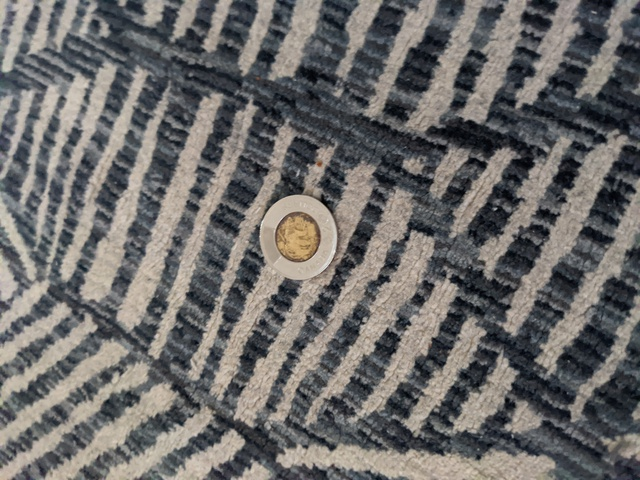twonie: (254, 194, 339, 279)
